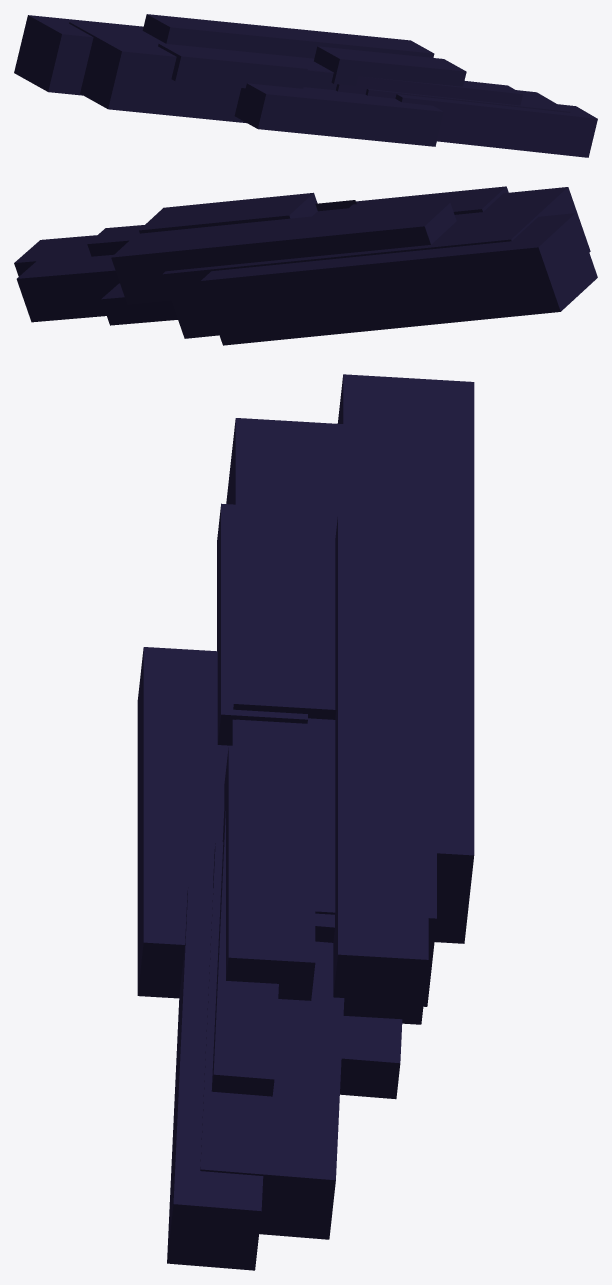
File: DesertBuilding3.fbx
The picture shows the model from 3 angles, top to bottom: view 1: azimuth 30°, elevation 25°; view 2: azimuth 150°, elevation 25°; view 3: azimuth 270°, elevation 25°; orthographic projection. The views are drawn at different scales.
Visible parts, largest first — view 1: Cube.029; view 2: Cube.029; view 3: Cube.029.
Boxes of the visible parts, <box> form: Cube.029: <box>14,14,597,157</box>; Cube.029: <box>14,186,597,345</box>; Cube.029: <box>137,374,474,1270</box>.
Bounding box in the file's own units: 917 × 364 × 261.
